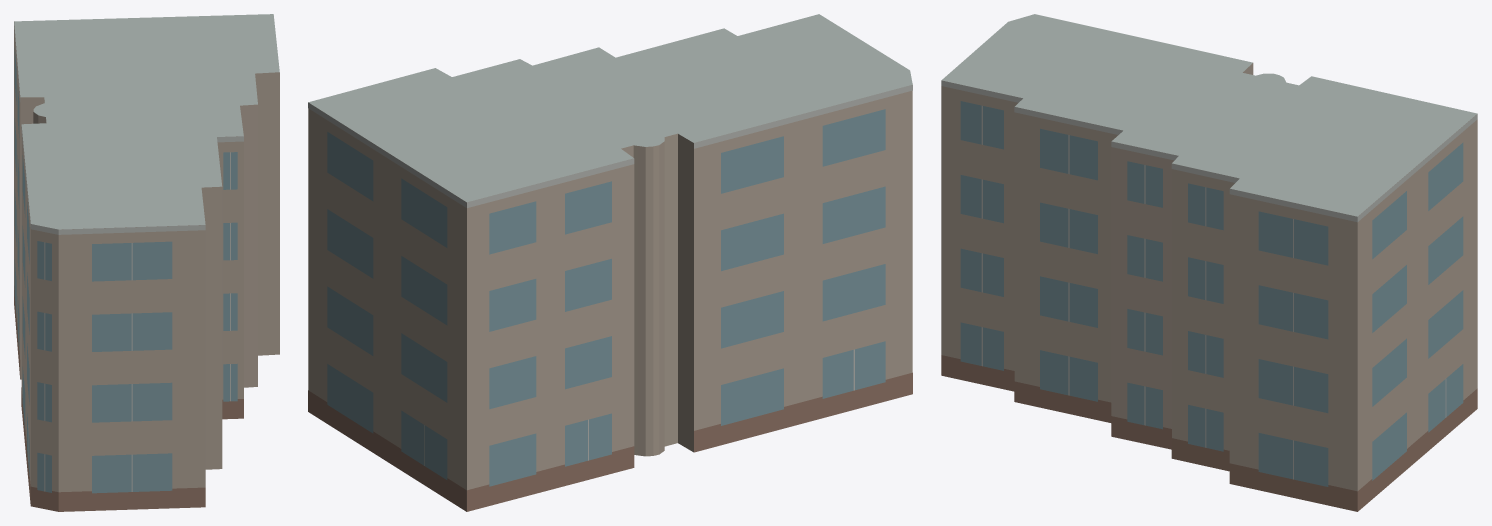
The model's file is survey-upis-32970680.glb.
3 views of the same model, side by side, from view 1: azimuth 30°, elevation 25°; view 2: azimuth 150°, elevation 25°; view 3: azimuth 270°, elevation 25° (orthographic). The views are drawn at different scales.
Parts seen in each view (by area): view 1: survey-upis-32970680.tmp; view 2: survey-upis-32970680.tmp; view 3: survey-upis-32970680.tmp.
Part boxes in pixels (x1,y1,x2,y2): survey-upis-32970680.tmp: [14, 14, 279, 511]; survey-upis-32970680.tmp: [308, 14, 912, 511]; survey-upis-32970680.tmp: [941, 14, 1477, 511].
Bounding box in the file's own units: 19 × 12.9 × 21.25.
